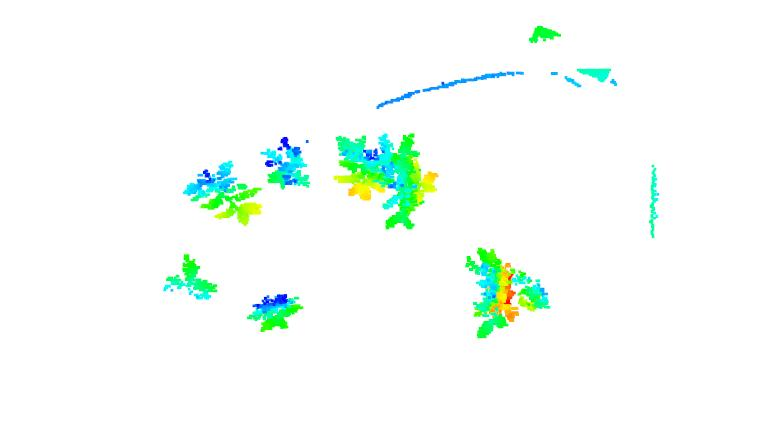chickpea: (463, 246, 552, 340), (181, 158, 266, 229), (378, 132, 438, 232), (331, 131, 400, 202), (159, 251, 219, 305), (261, 137, 313, 192), (244, 292, 308, 332)
